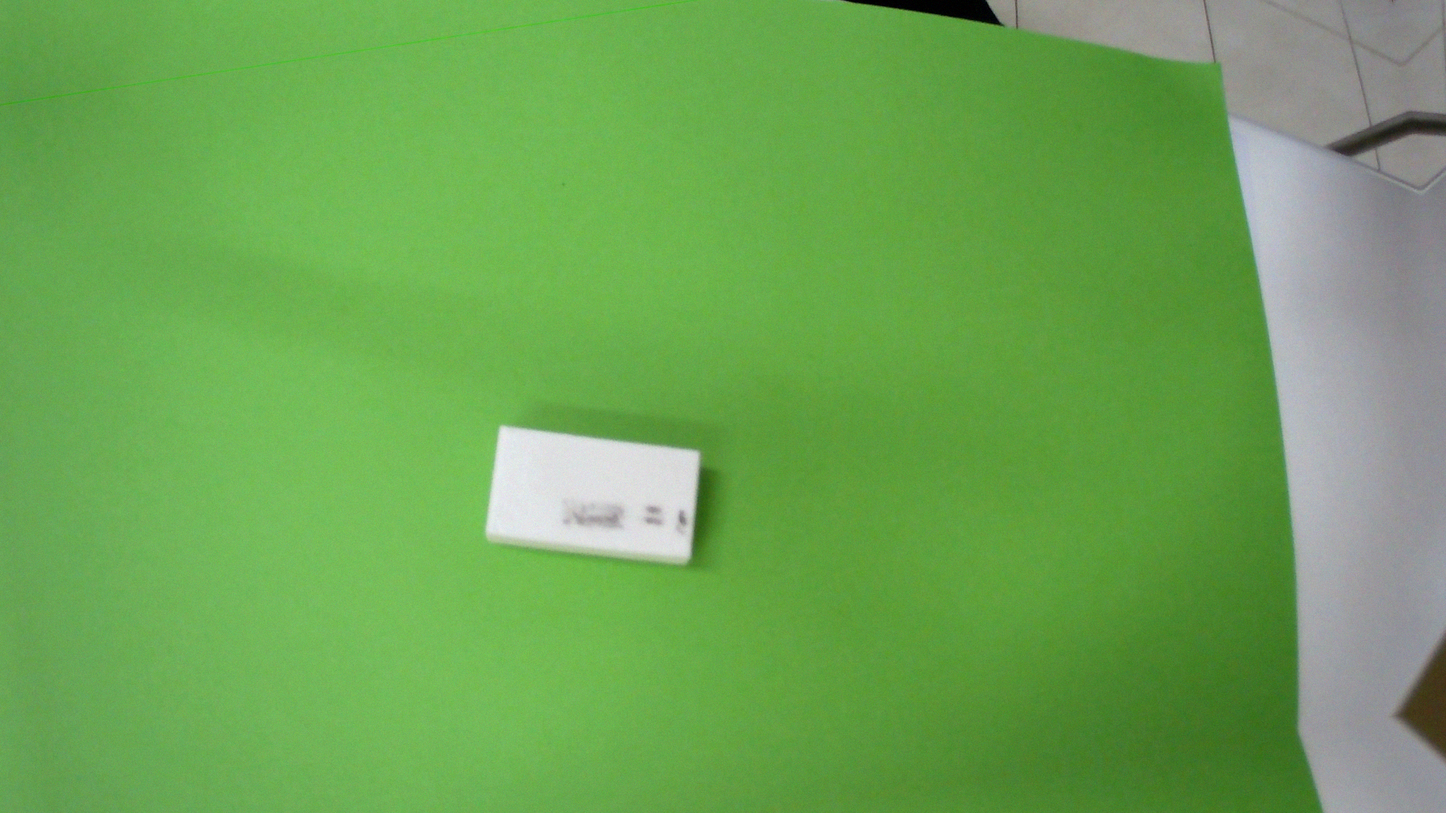gom: (468, 394, 729, 597)
